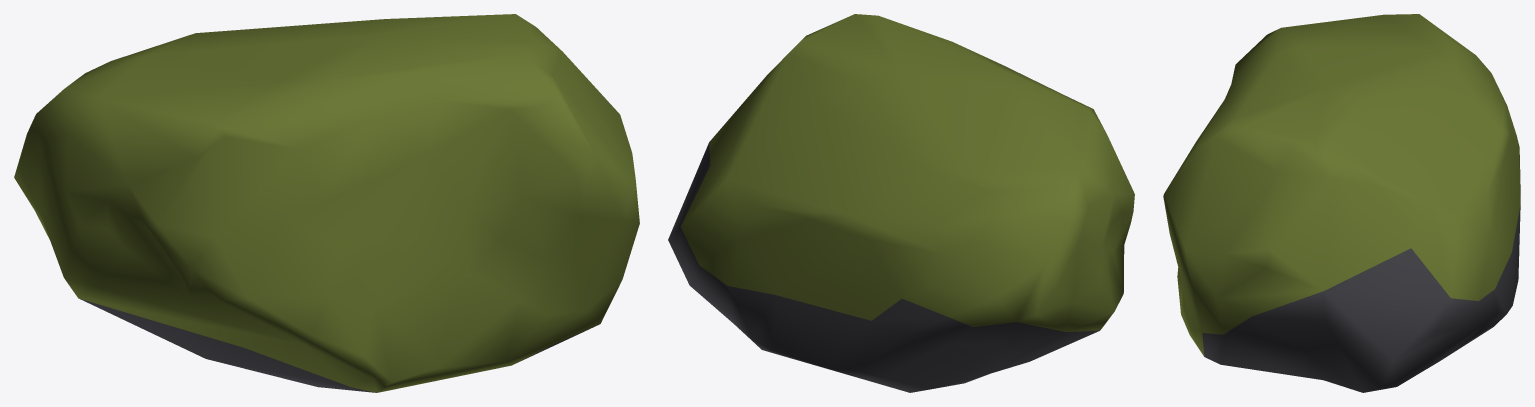
File: Rock_2_mossy.glb
3 renders of one model, left to right at view 1: azimuth 30°, elevation 25°; view 2: azimuth 150°, elevation 25°; view 3: azimuth 270°, elevation 25°, orthographic. The views are drawn at different scales.
Visible parts, largest first — view 1: Rock_2_mossy; view 2: Rock_2_mossy; view 3: Rock_2_mossy.
Part boxes in pixels (x1,y1,x2,y2): Rock_2_mossy: [14, 14, 639, 392]; Rock_2_mossy: [668, 14, 1134, 392]; Rock_2_mossy: [1163, 14, 1520, 392].
Bounding box in the file's own units: 0.4176 × 0.2474 × 0.312.
Materials: 1 (1 with a texture image).
